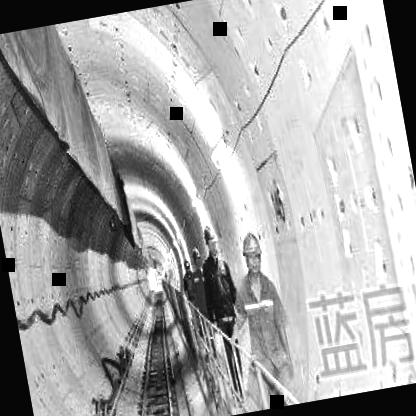helmet: (237, 224, 265, 278), (200, 219, 223, 261), (189, 241, 204, 269)
